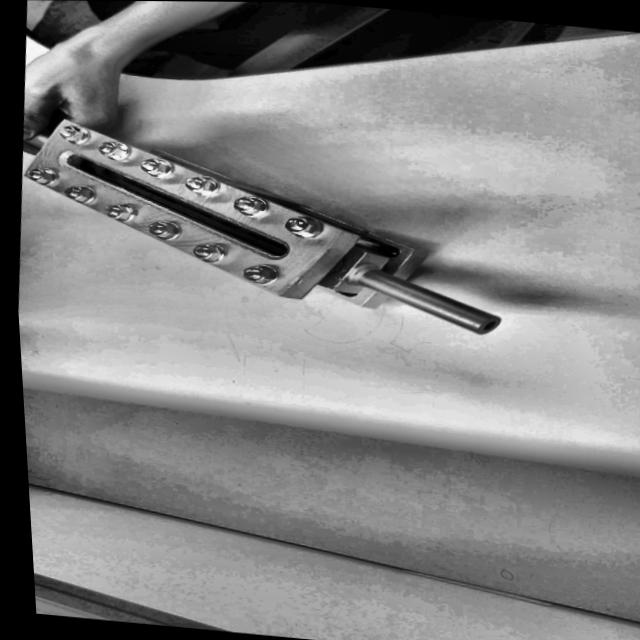ShuiWeiQi_12: (6, 108, 495, 342)
